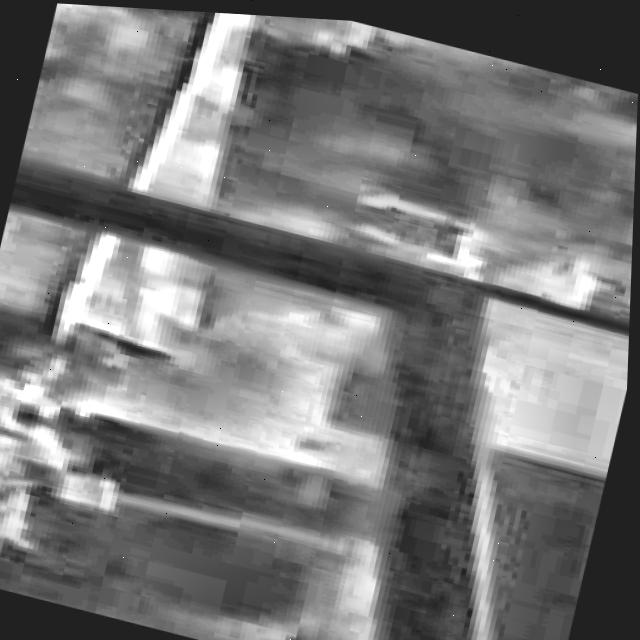Gerbong: (0, 0, 229, 415)
